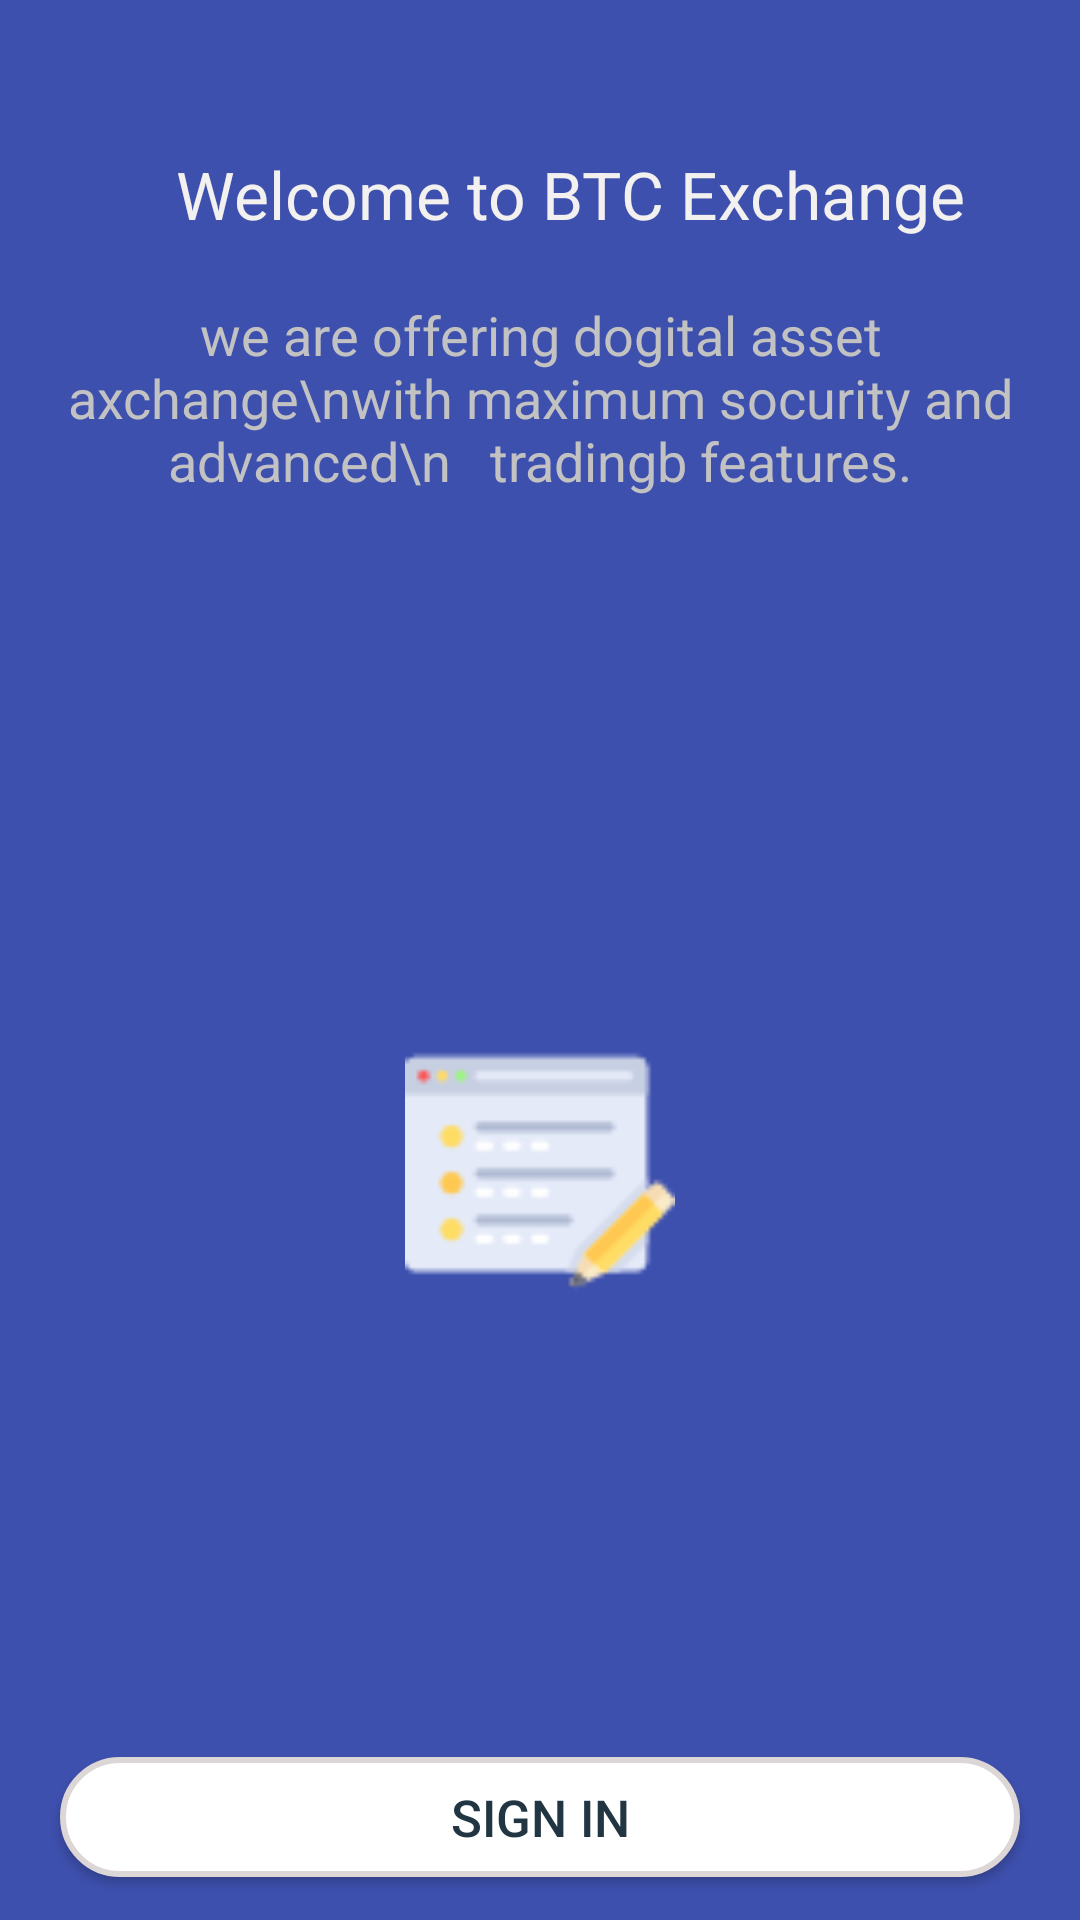

Point at icon controls on the screen. Image size 1080x1920, points as (x,y).
web site: (540,1170)
